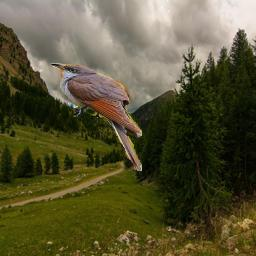Cuckoo: (50, 63, 142, 171)
